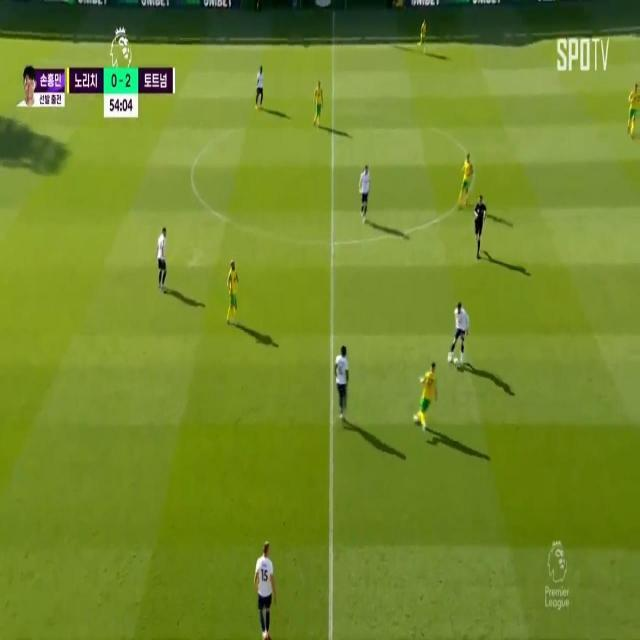ball: (452, 349, 463, 383)
player: (414, 363, 439, 441), (448, 295, 470, 376), (255, 542, 273, 635), (333, 338, 351, 416), (621, 75, 639, 137), (311, 72, 328, 130), (458, 151, 473, 212), (157, 221, 170, 287), (227, 262, 240, 319), (358, 161, 370, 221), (257, 63, 268, 109), (419, 19, 428, 58)
referee: (473, 194, 487, 251)
